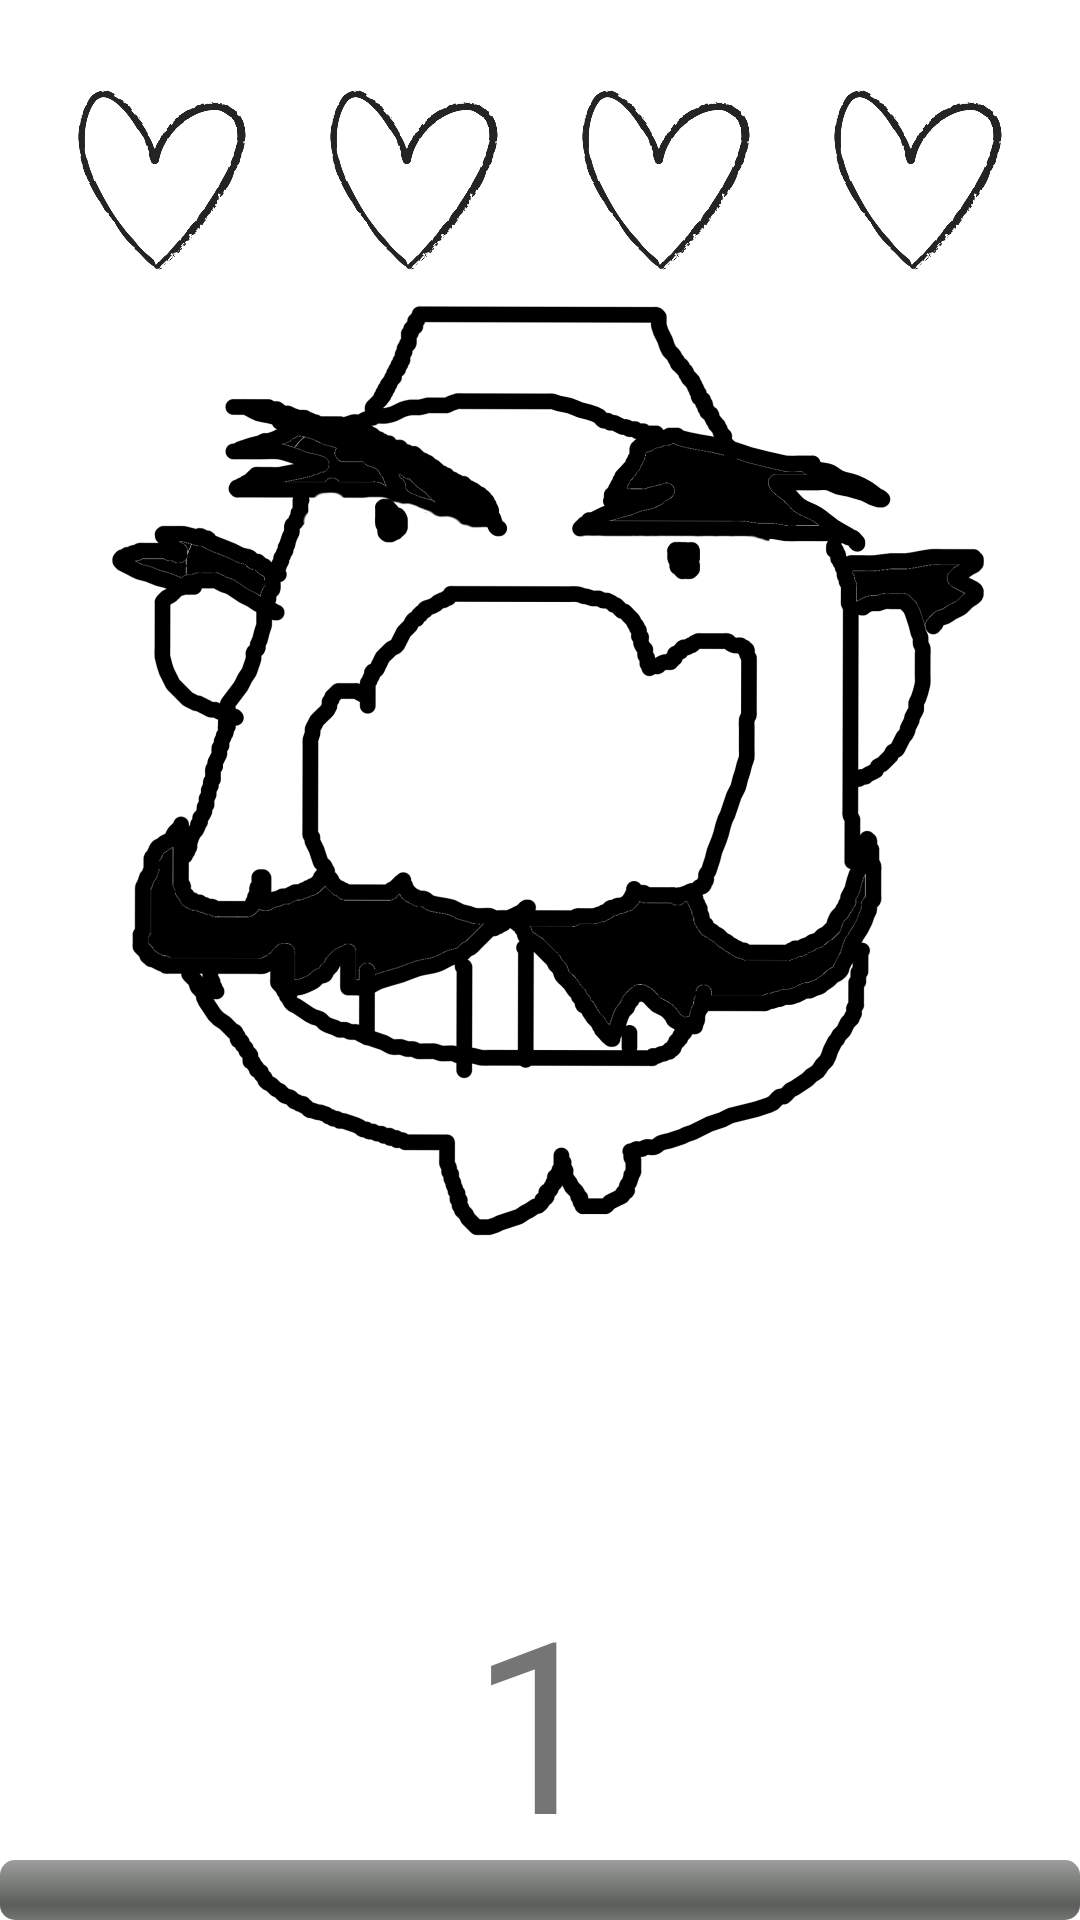

Locate icon controls on the screen. Image size 1080w x 1920h, boxes as rect(x1, y1, x2, y2).
life heart: rect(78, 90, 246, 270), rect(330, 90, 498, 270), rect(582, 90, 750, 270), rect(834, 90, 1002, 270)
